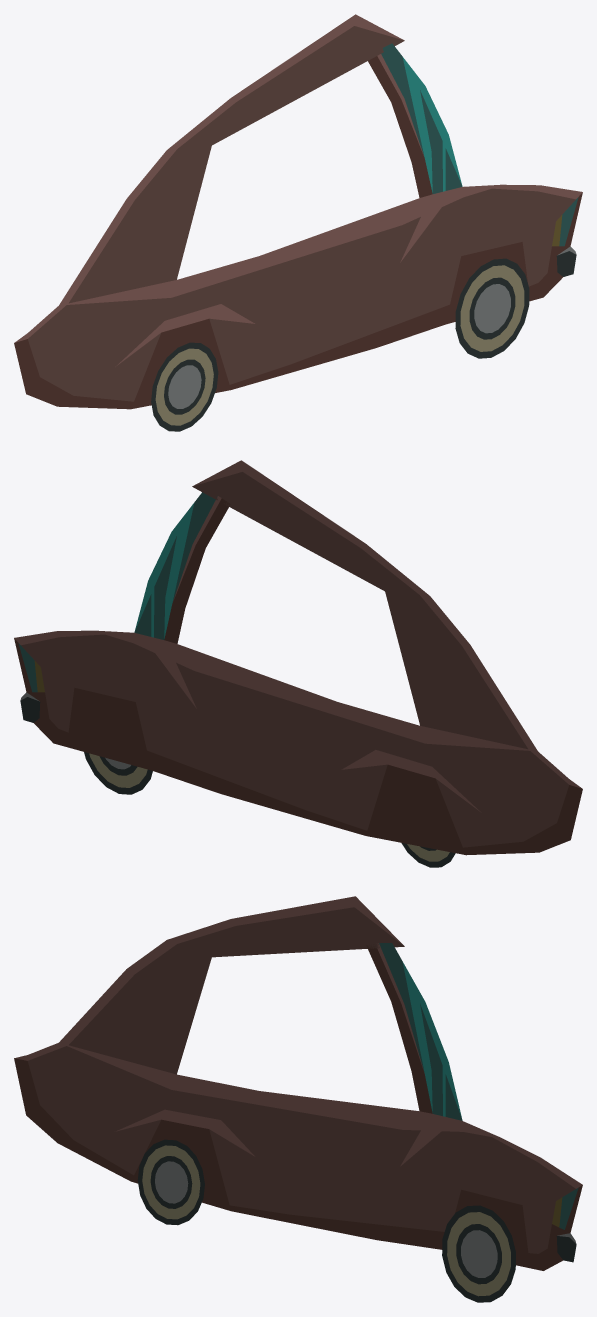
File: car.FBX
The picture shows the model from 3 angles, top to bottom: view 1: azimuth 30°, elevation 25°; view 2: azimuth 150°, elevation 25°; view 3: azimuth 330°, elevation 25°; orthographic projection.
Parts seen in each view (by area): view 1: car; view 2: car; view 3: car.
Part boxes in pixels (box(x1,y1,x2,y2)): car: box(14, 14, 582, 431); car: box(14, 460, 582, 867); car: box(14, 896, 582, 1302).
Size of the model in its own units: 309 by 192 by 6.29.
